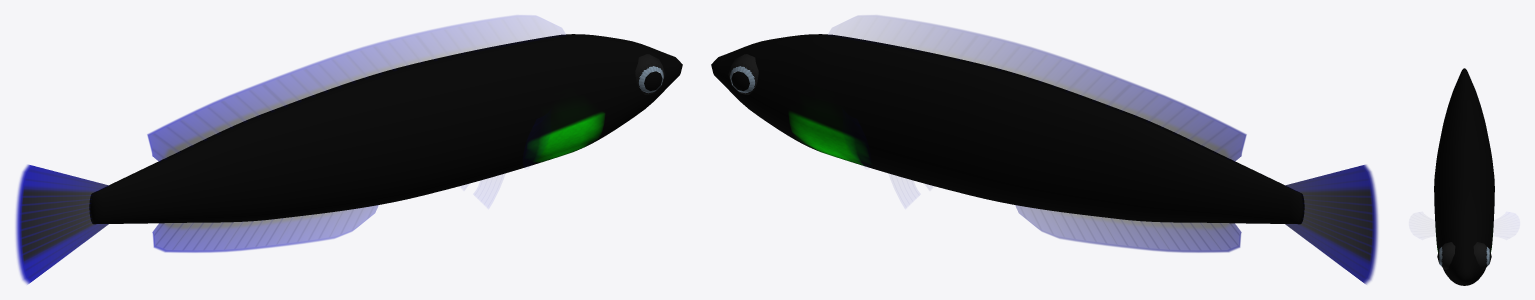
File: wrasse.glb
3 renders of one model, left to right at view 1: azimuth 30°, elevation 25°; view 2: azimuth 150°, elevation 25°; view 3: azimuth 270°, elevation 25°, orthographic. The views are drawn at different scales.
Parts seen in each view (by area): view 1: Body, FinDorsal, FinCaudal, FinAnal, EyeR; view 2: Body, FinDorsal, FinCaudal, FinAnal, EyeL; view 3: Body, EyeL, EyeR.
Boxes of the visible parts, box(x1,y1,x2,y2) form: Body: box(90, 34, 682, 224); FinDorsal: box(147, 16, 552, 161); FinCaudal: box(16, 165, 109, 284); FinAnal: box(152, 205, 378, 252); EyeR: box(635, 54, 665, 94); Body: box(711, 34, 1303, 224); FinDorsal: box(841, 16, 1246, 161); FinCaudal: box(1284, 165, 1377, 284); FinAnal: box(1015, 205, 1241, 252); EyeL: box(728, 54, 758, 94); Body: box(1434, 68, 1494, 285); EyeL: box(1473, 242, 1491, 269); EyeR: box(1437, 242, 1455, 269).
Size of the model in its own units: 1 by 0.2683 by 0.2107.
4 materials, 3 textured.
